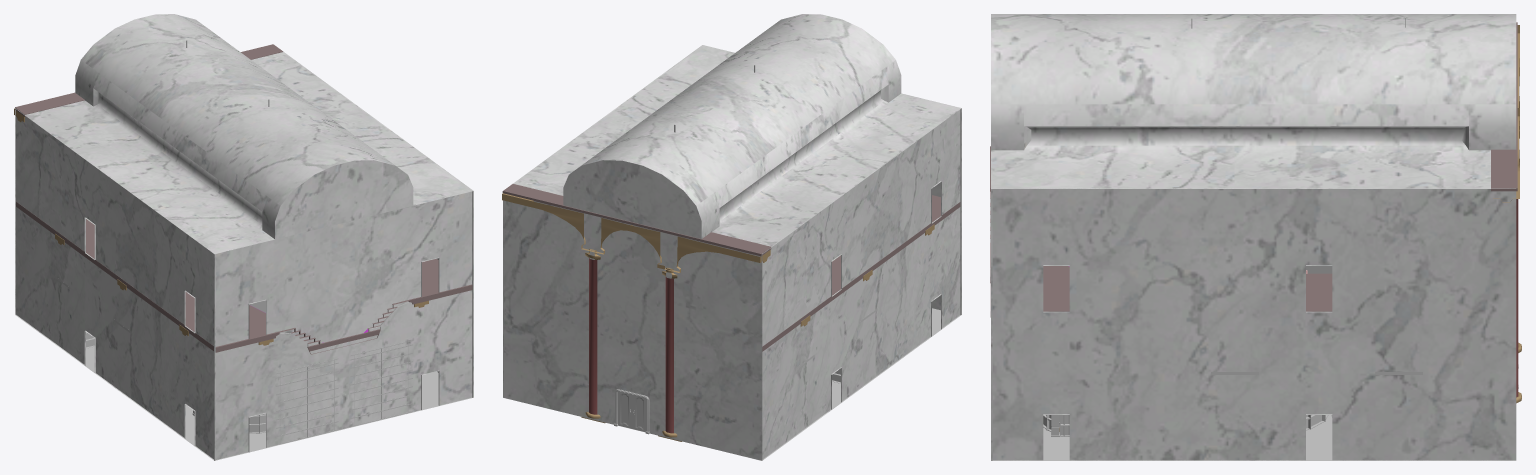
The model's file is ManorStartRoom.fbx.
3 views of the same model, side by side, from view 1: azimuth 30°, elevation 25°; view 2: azimuth 150°, elevation 25°; view 3: azimuth 270°, elevation 25° (orthographic). The views are drawn at different scales.
Visible parts, largest first — view 1: ManorStartRoom, StartRoomMeshes, ShelfBThin__5_, ShelfBThin__4_; view 2: ManorStartRoom, StartRoomMeshes, DoorMesh, DoorMesh__1_; view 3: ManorStartRoom, StartRoomMeshes.
Boxes of the visible parts, x1,y1,x2,y2 form: ManorStartRoom: (15,14,473,460); StartRoomMeshes: (14,44,472,354); ShelfBThin__5_: (350,340,412,427); ShelfBThin__4_: (276,358,338,445); ManorStartRoom: (503,14,961,460); StartRoomMeshes: (502,184,960,441); DoorMesh: (617,392,632,428); DoorMesh__1_: (632,395,646,432); ManorStartRoom: (991,14,1516,460); StartRoomMeshes: (990,22,1521,431).
Size of what is drawn, in the model's own units: 2400 by 2529 by 3239.
